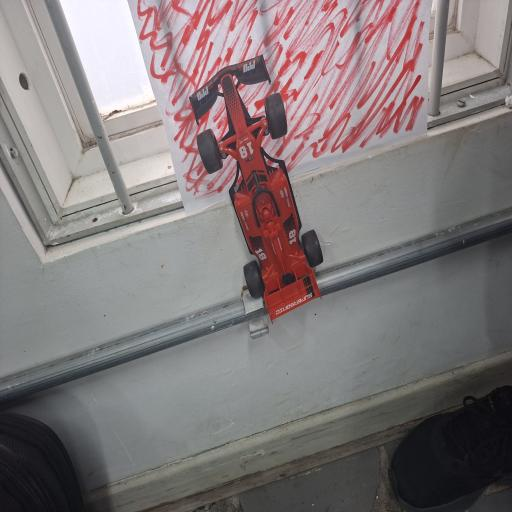carro: (190, 56, 322, 320)
